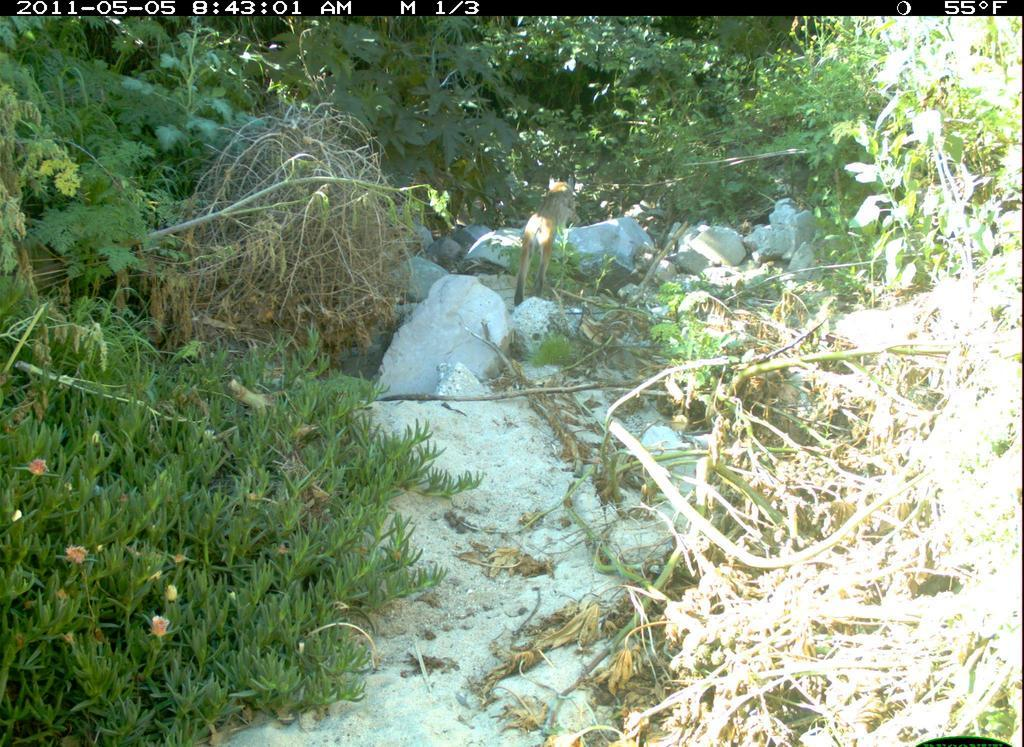bobcat: (513, 173, 582, 305)
